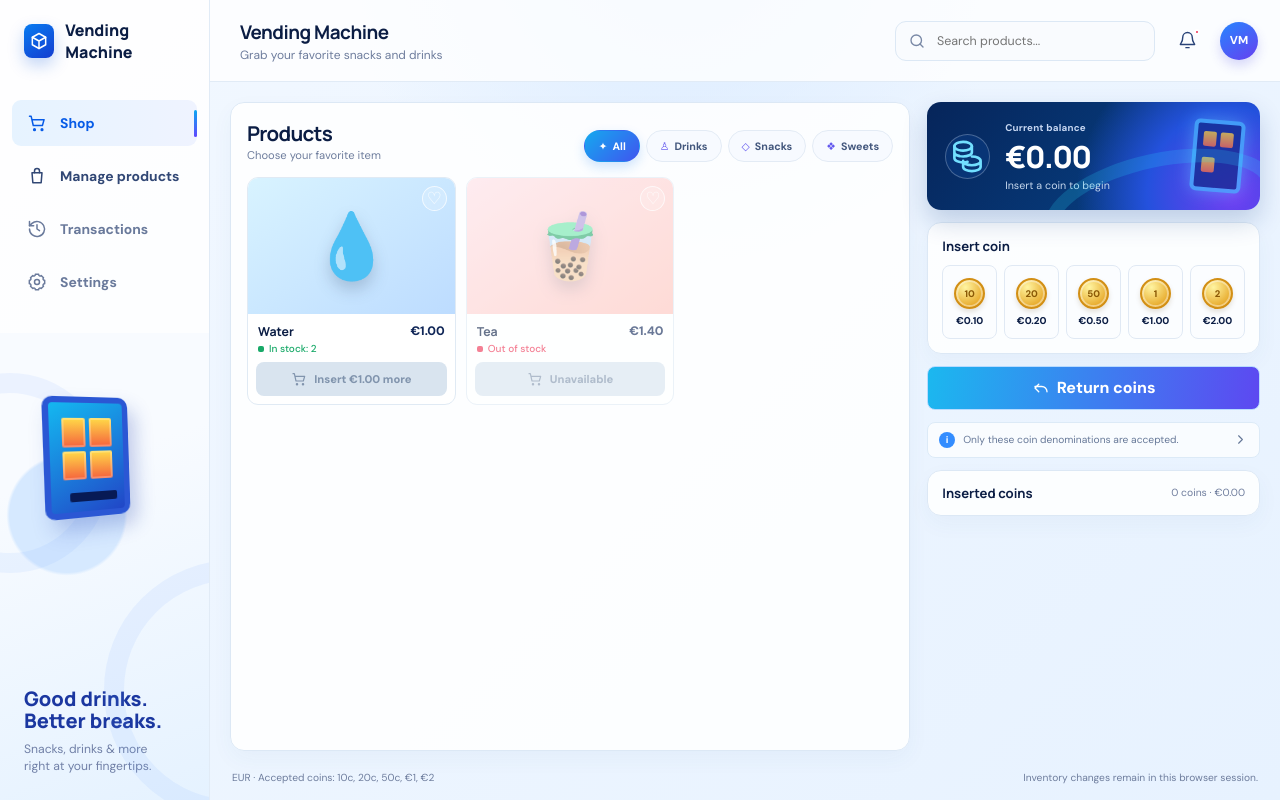
Test: App › loads products and completes a purchase
The image size is (1280, 800).
Expected: the heading "Water" is shown, [258,323,294,340]
Click the button named "Insert €1.00" at (1156, 302), box [1128,265,1183,339]
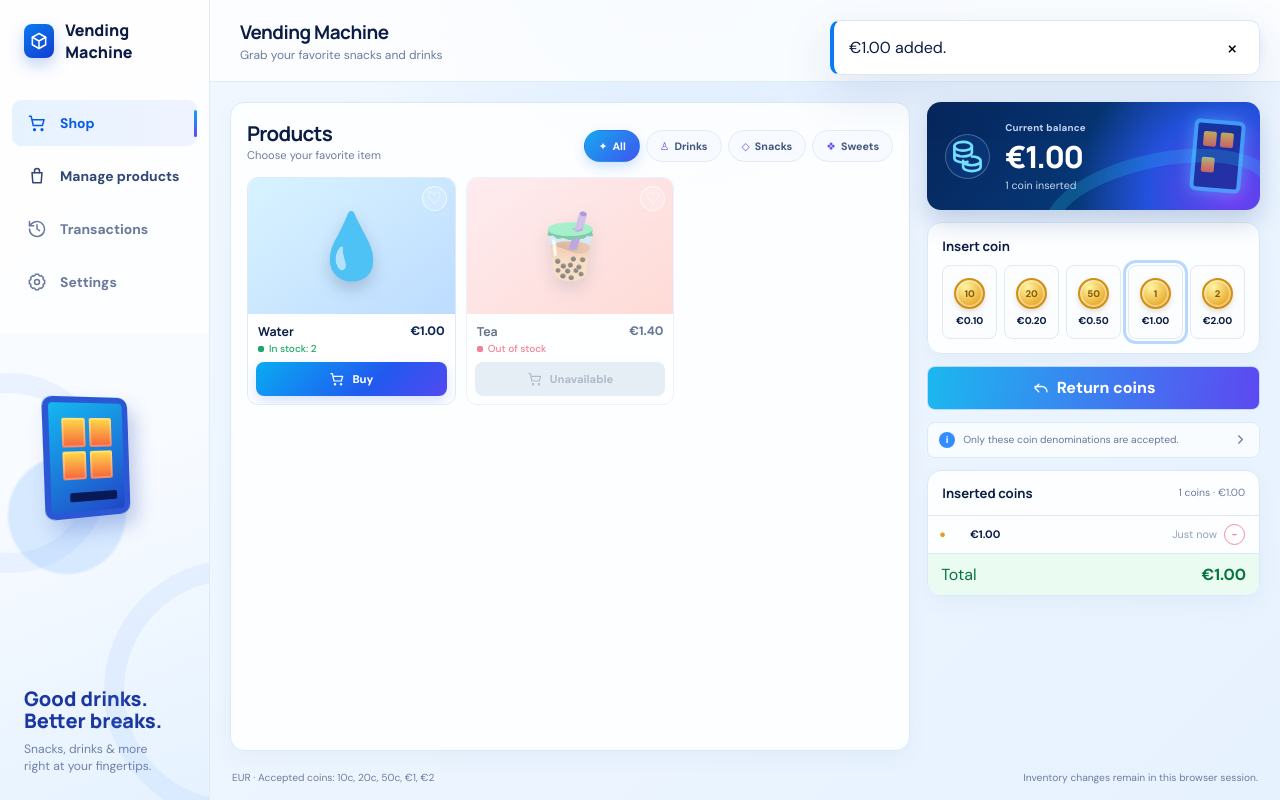
Click the button with aria-label "Buy Water for €1.00" at (351, 379), box [256,362,447,396]
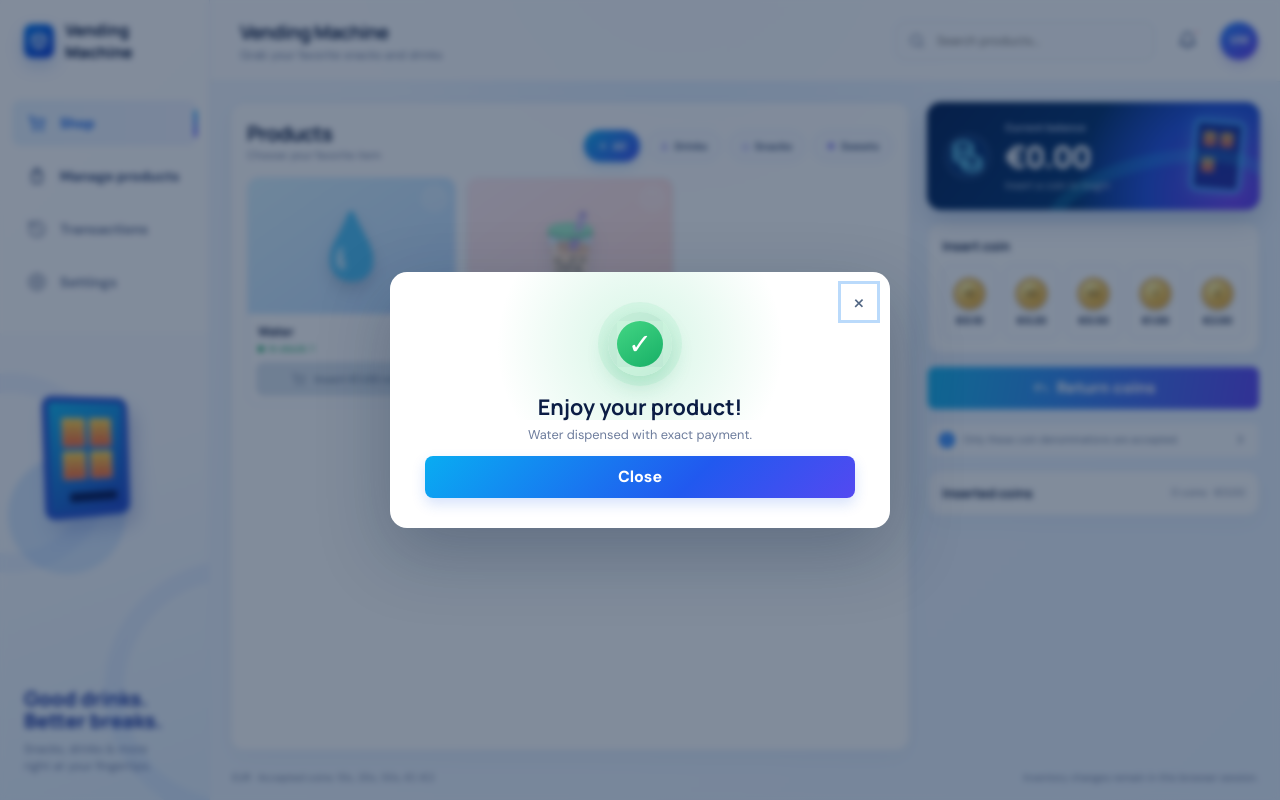
Now the text "Water dispensed with exact payment." is shown, box [528,426,752,443]
